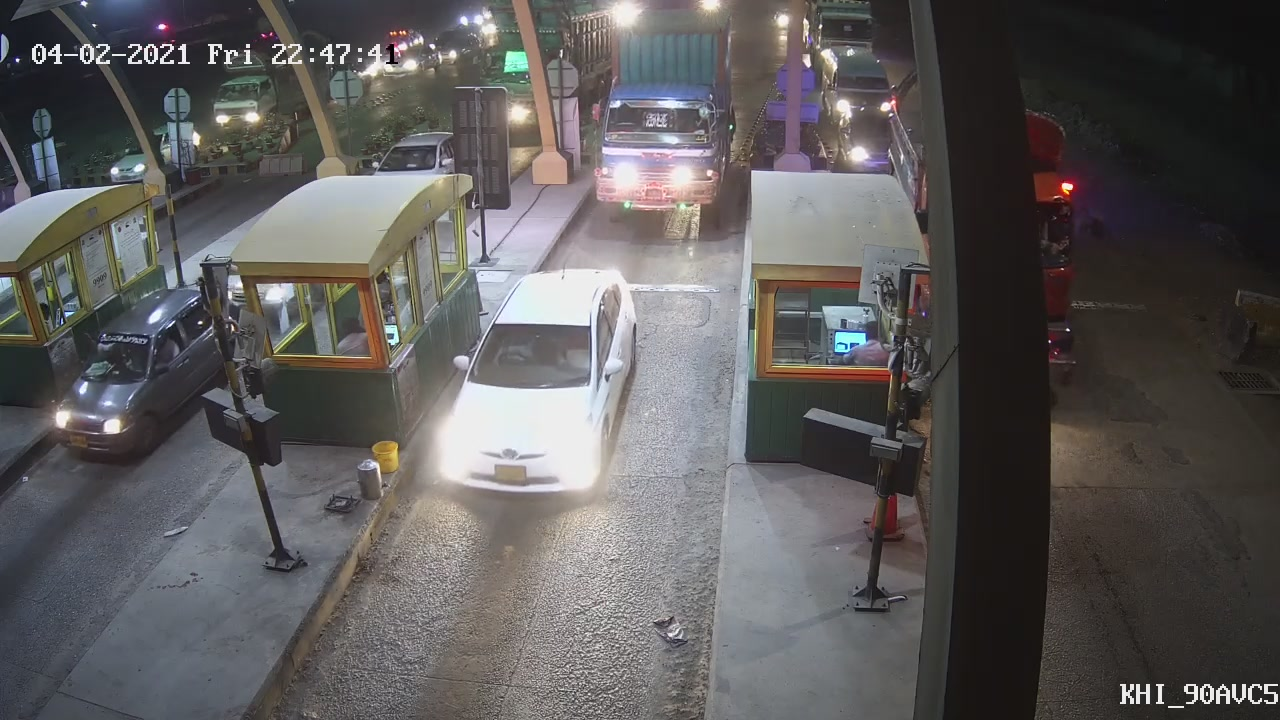F1: (446, 264, 640, 504)
F6: (583, 4, 746, 216)
